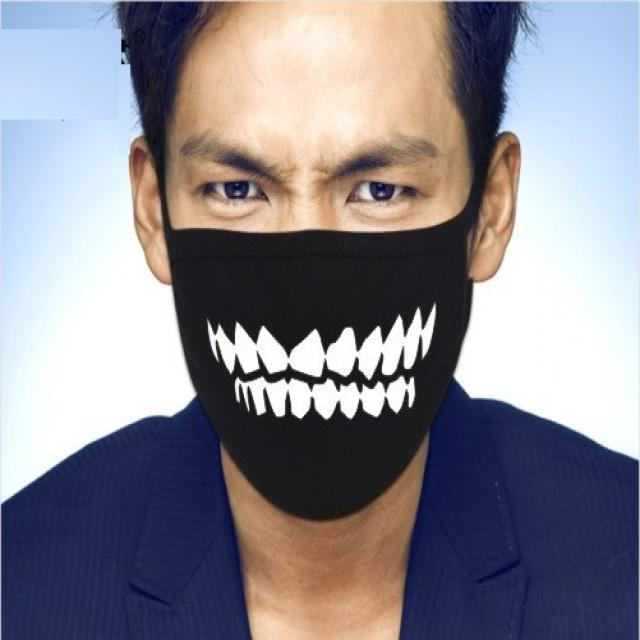mask: (160, 0, 474, 452)
